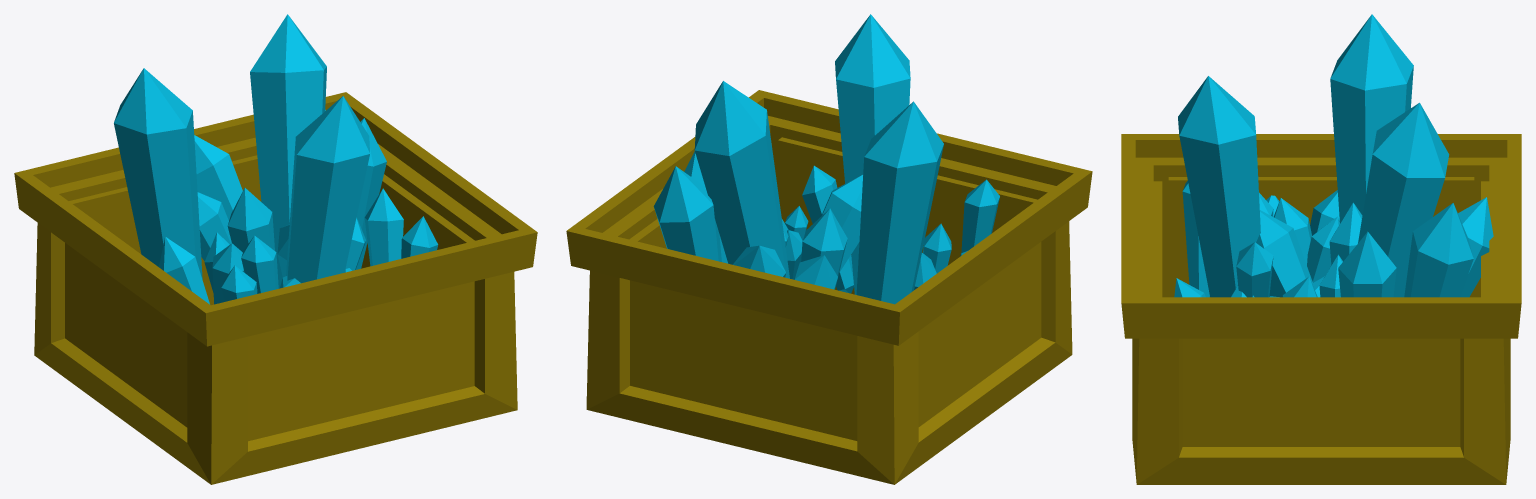
The model's file is Mana Crystal.fbx.
3 views of the same model, side by side, from view 1: azimuth 30°, elevation 25°; view 2: azimuth 150°, elevation 25°; view 3: azimuth 270°, elevation 25° (orthographic). The views are drawn at different scales.
Parts seen in each view (by area): view 1: pCube2, pCylinder2, pCylinder4, pCylinder5, pCylinder, pCylinder9, pCylinder10, pCylinder7, pCylinder3, pCylinder6, pCylinder8; view 2: pCube2, pCylinder2, pCylinder5, pCylinder, pCylinder4, pCylinder6, pCylinder8, pCylinder10, pCylinder9; view 3: pCube2, pCylinder, pCylinder4, pCylinder2, pCylinder5, pCylinder10, pCylinder8, pCylinder6, pCylinder9, pCylinder3.
Part boxes in pixels (x1,y1,x2,y2): pCube2: [14, 92, 537, 484]; pCylinder2: [114, 68, 202, 279]; pCylinder4: [286, 96, 369, 283]; pCylinder5: [250, 14, 326, 288]; pCylinder: [194, 110, 386, 277]; pCylinder9: [344, 188, 438, 272]; pCylinder10: [159, 232, 300, 304]; pCylinder7: [241, 235, 278, 293]; pCylinder3: [212, 243, 244, 304]; pCylinder6: [221, 265, 257, 301]; pCylinder8: [345, 217, 366, 270]; pCube2: [566, 90, 1092, 484]; pCylinder2: [856, 101, 943, 304]; pCylinder5: [694, 81, 789, 278]; pCylinder: [653, 151, 862, 289]; pCylinder4: [835, 14, 910, 294]; pCylinder6: [961, 179, 999, 252]; pCylinder8: [802, 165, 853, 293]; pCylinder10: [914, 223, 967, 289]; pCylinder9: [785, 206, 808, 279]; pCube2: [1121, 134, 1521, 484]; pCylinder: [1256, 197, 1493, 297]; pCylinder4: [1178, 76, 1260, 297]; pCylinder2: [1330, 14, 1413, 223]; pCylinder5: [1358, 102, 1449, 297]; pCylinder10: [1266, 190, 1339, 282]; pCylinder8: [1236, 242, 1273, 297]; pCylinder6: [1182, 181, 1209, 297]; pCylinder9: [1174, 276, 1324, 297]; pCylinder3: [1273, 198, 1311, 265].
Size of the model in its own units: 2.81 by 2.61 by 2.81.
